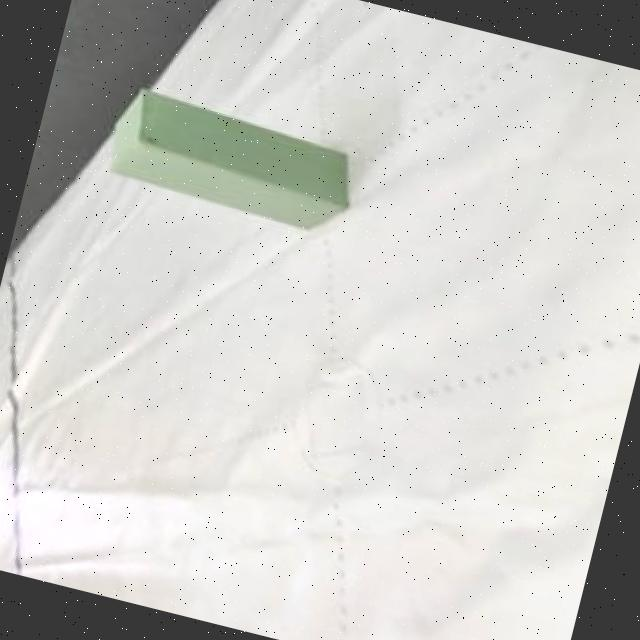greenbox: (97, 84, 359, 237)
